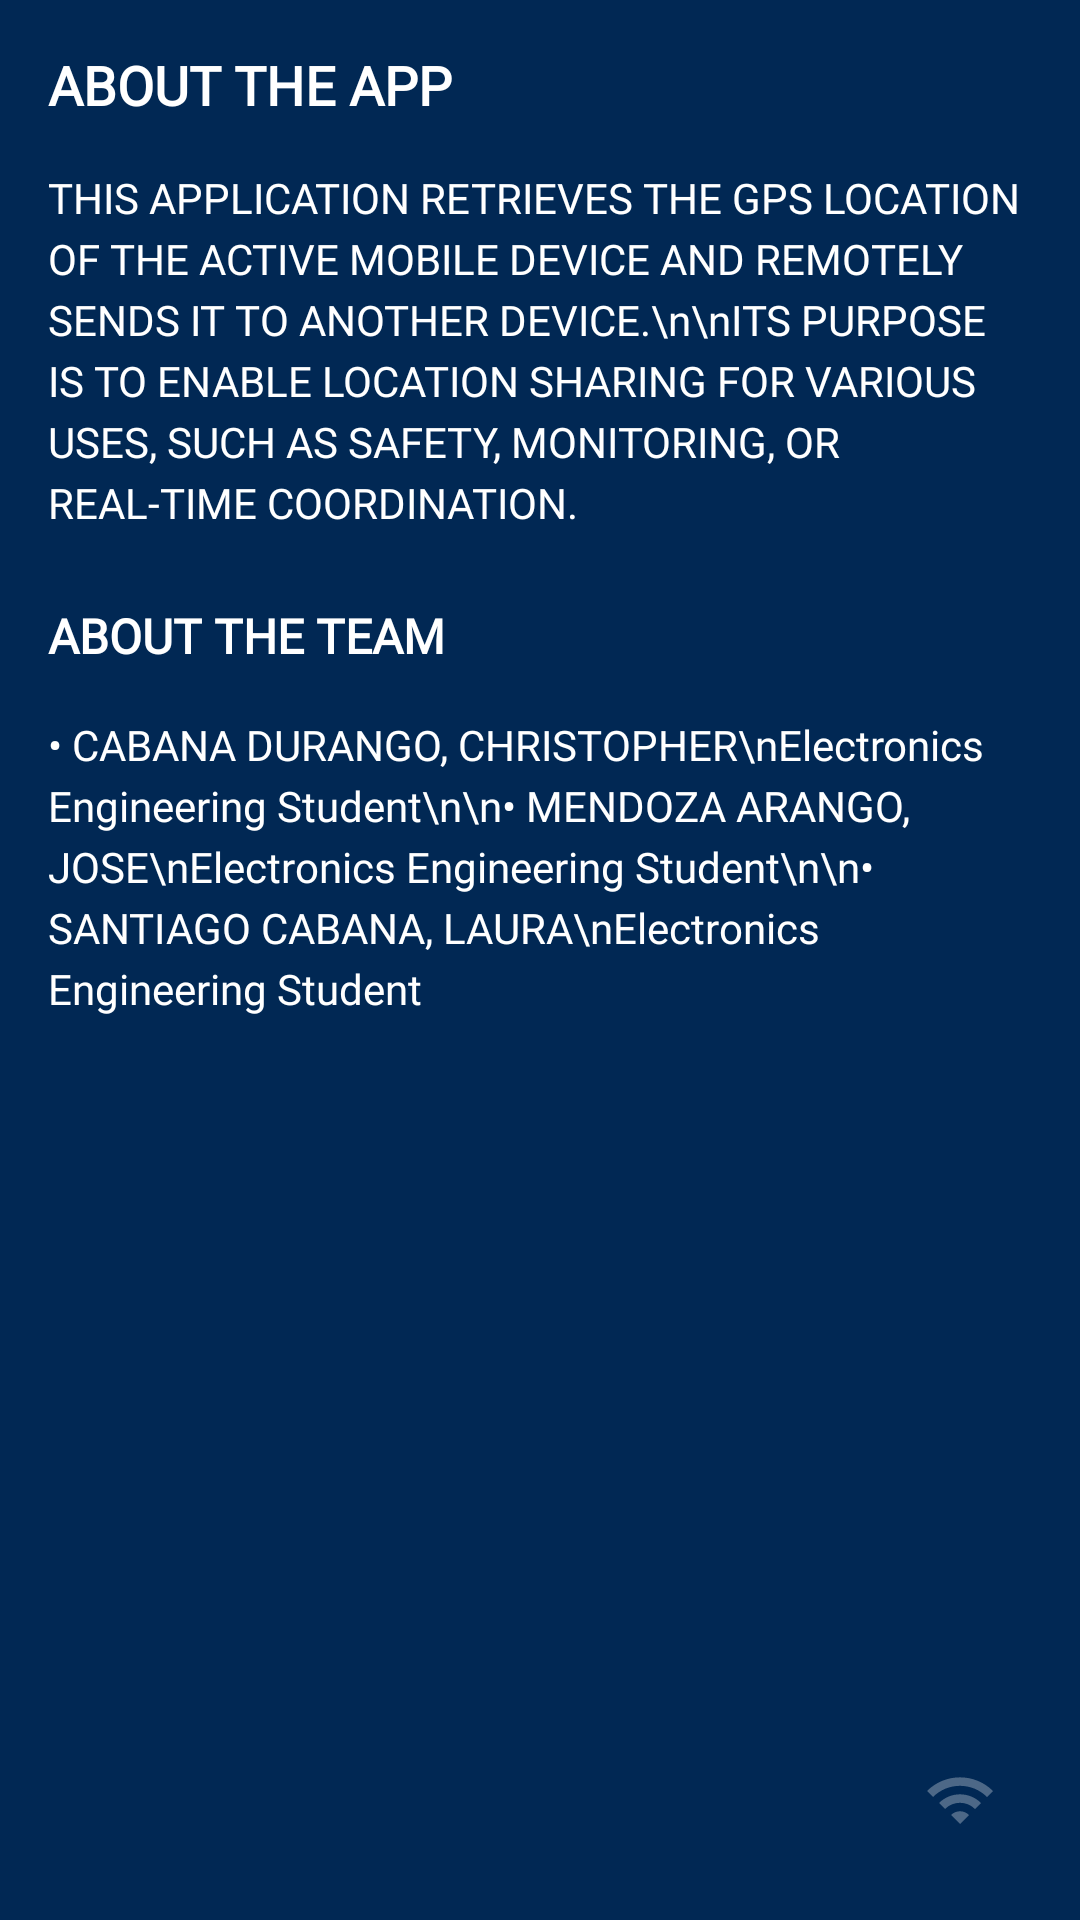

Locate icon controls on the screen. Image size 1080px x 1920px, boxes as (x1, y1, x2, y2).
WiFi Testing Toggle: (927, 1777, 993, 1824)
